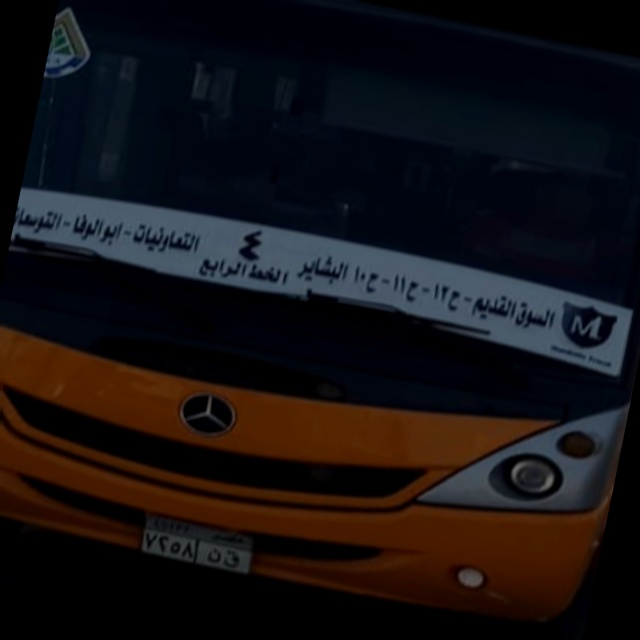License Plate: (134, 508, 264, 578)
